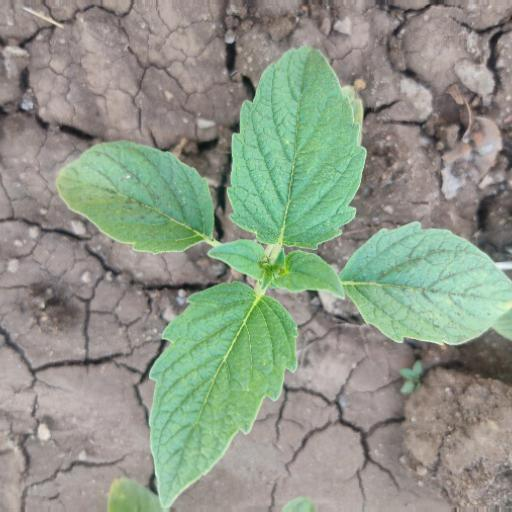crop: (55, 46, 512, 505)
